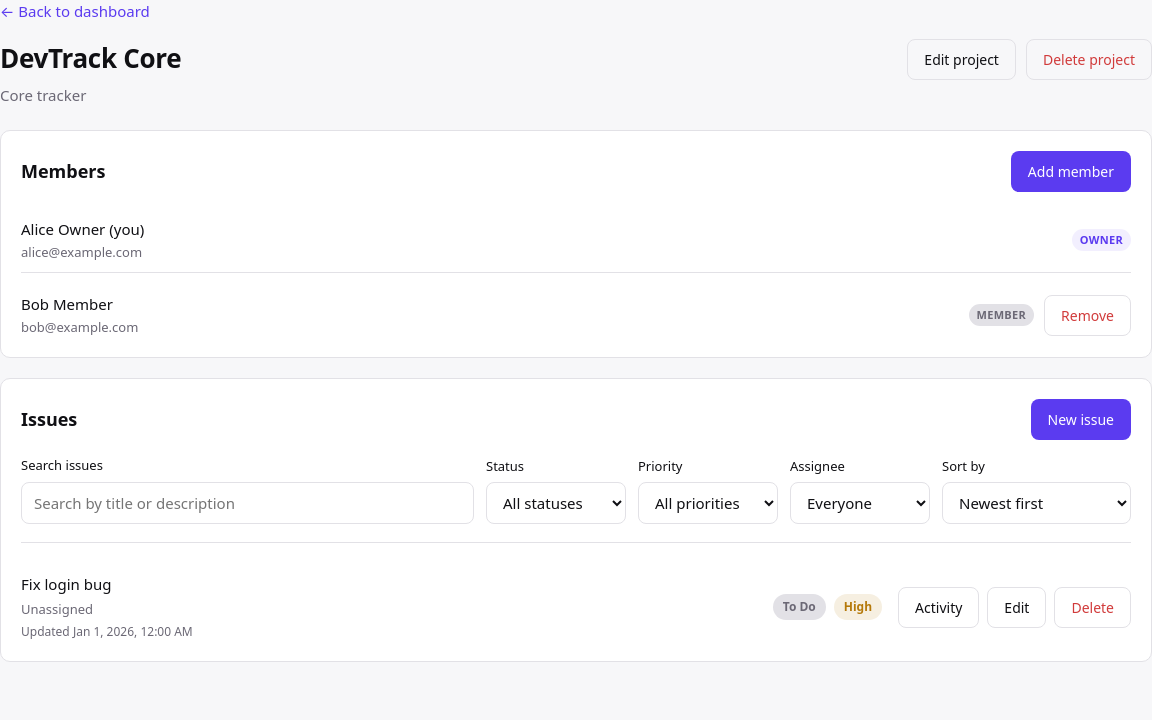
it: ProjectDetailPage › shows issue activity with readable, resolved names
Expected: the text "Fix login bug" is shown, [21,574,111,594]
Click the button "Activity": (939, 607) [898,586,979,628]
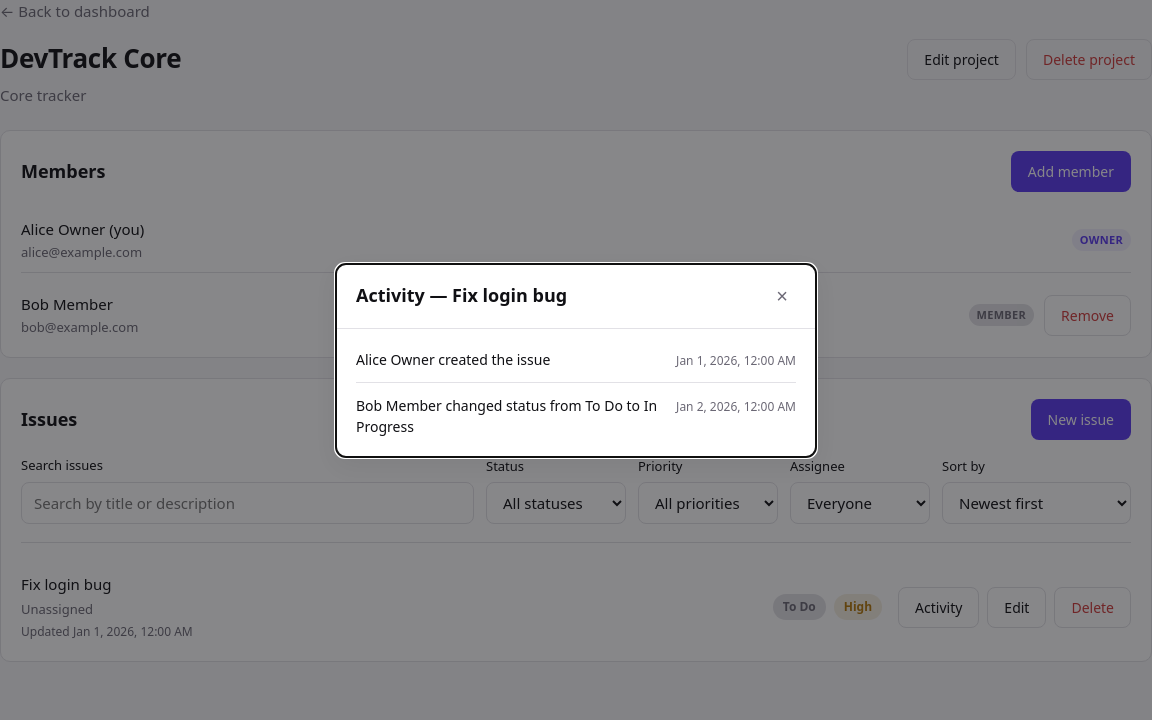
Result: the text "Alice Owner created the issue" is shown at [356,348,550,370]
Result: the text "Bob Member changed status from To Do to In Progress" is shown at [356,394,664,436]
